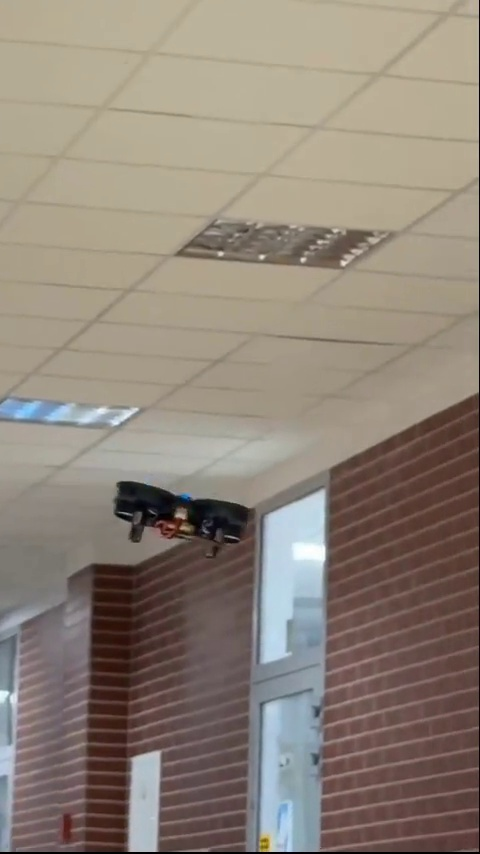drone: (111, 476, 248, 551)
